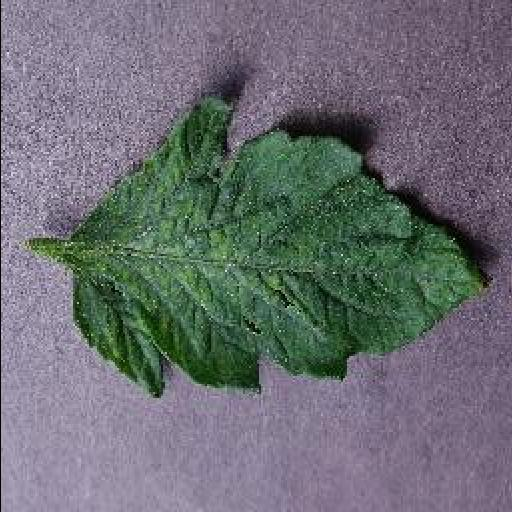disease_tomato: (68, 92, 490, 398)
